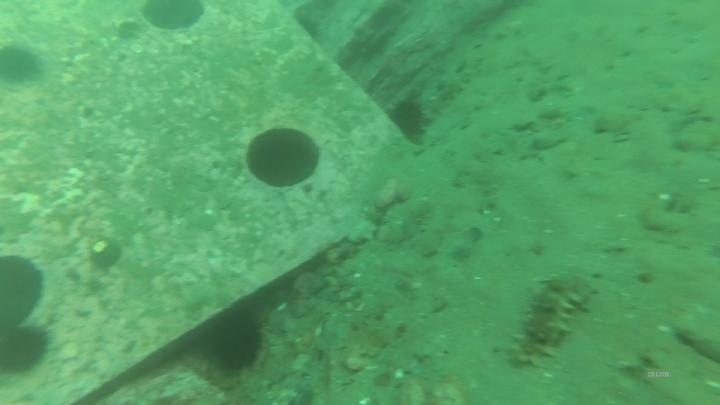echinus: (204, 307, 269, 377), (0, 320, 54, 378), (0, 40, 45, 88), (386, 96, 430, 143)
holothurian: (505, 269, 596, 370)
